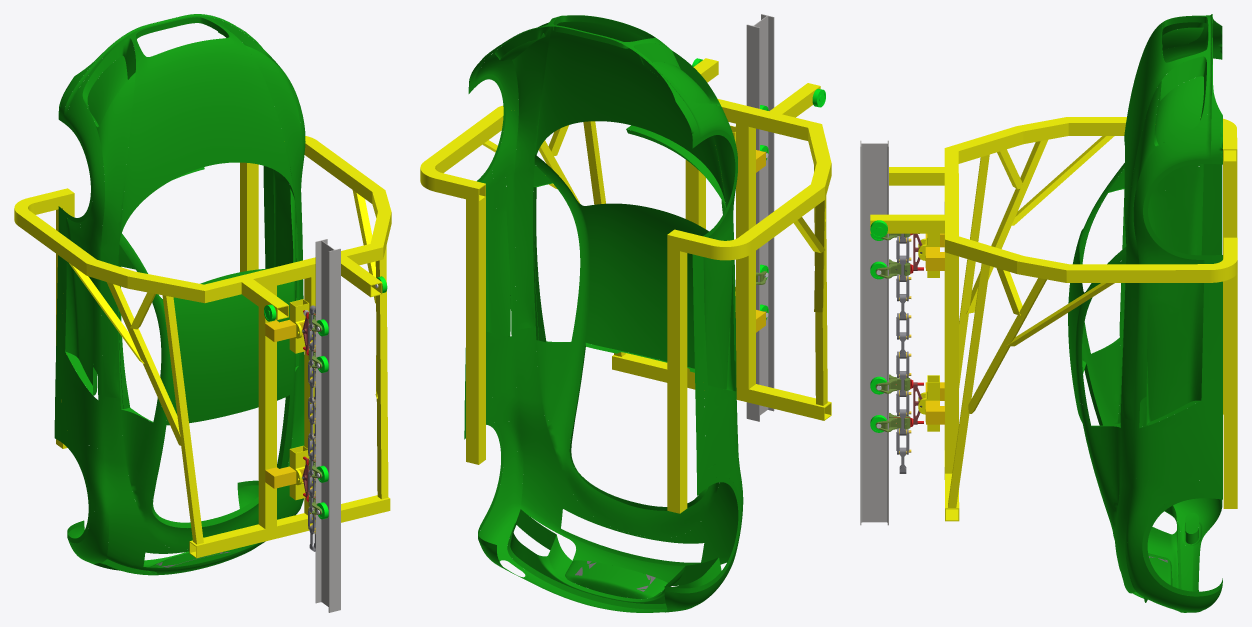
The model's file is overheadconveyer.fbx.
3 renders of one model, left to right at view 1: azimuth 30°, elevation 25°; view 2: azimuth 150°, elevation 25°; view 3: azimuth 270°, elevation 25°, orthographic. The views are drawn at different scales.
Visible parts, largest first — view 1: COMPOUND, ESTRUCUTURA DE TRANSPORTE DE CARRO, AISC - W 8x15 - 118,11024; view 2: COMPOUND, ESTRUCUTURA DE TRANSPORTE DE CARRO, AISC - W 8x15 - 118,11024; view 3: COMPOUND, ESTRUCUTURA DE TRANSPORTE DE CARRO, AISC - W 8x15 - 118,11024.
Part boxes in pixels (x1,y1,x2,y2): COMPOUND: (54,14,305,575); ESTRUCUTURA DE TRANSPORTE DE CARRO: (14,136,391,558); AISC - W 8x15 - 118,11024: (315,239,340,612); COMPOUND: (464,15,743,612); ESTRUCUTURA DE TRANSPORTE DE CARRO: (420,58,831,513); AISC - W 8x15 - 118,11024: (746,14,774,421); COMPOUND: (1068,14,1222,612); ESTRUCUTURA DE TRANSPORTE DE CARRO: (870,117,1237,521); AISC - W 8x15 - 118,11024: (860,140,888,525).
Size of the model in its own units: 260 by 443 by 271.
